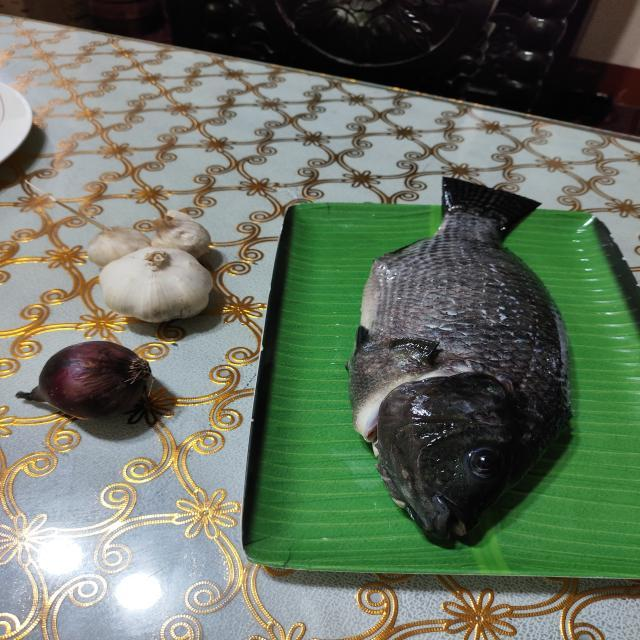fish: (349, 174, 575, 551)
garlic: (85, 220, 217, 327)
onion: (31, 339, 153, 424)
